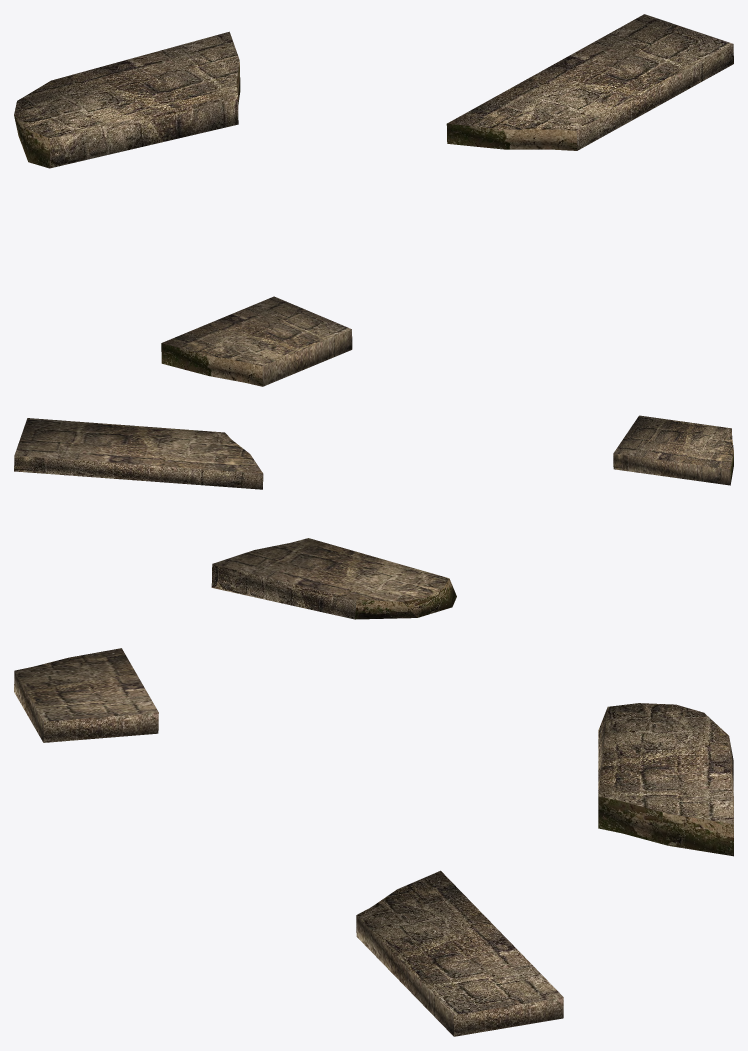
Rendered from ADDON_DUNGEON_BROKENSTONE_03.glb.
The picture shows the model from 3 angles, top to bottom: view 1: azimuth 30°, elevation 25°; view 2: azimuth 150°, elevation 25°; view 3: azimuth 270°, elevation 25°; orthographic projection. The views are drawn at different scales.
Parts seen in each view (by area): view 1: Mesh; view 2: Mesh; view 3: Mesh.
Boxes of the visible parts, <box> form: Mesh: <box>14,14,733,386</box>; Mesh: <box>14,415,733,619</box>; Mesh: <box>14,648,733,1036</box>.
Size of the model in its own units: 4.09 by 0.1682 by 3.35.
Materials: 2 (2 with a texture image).
